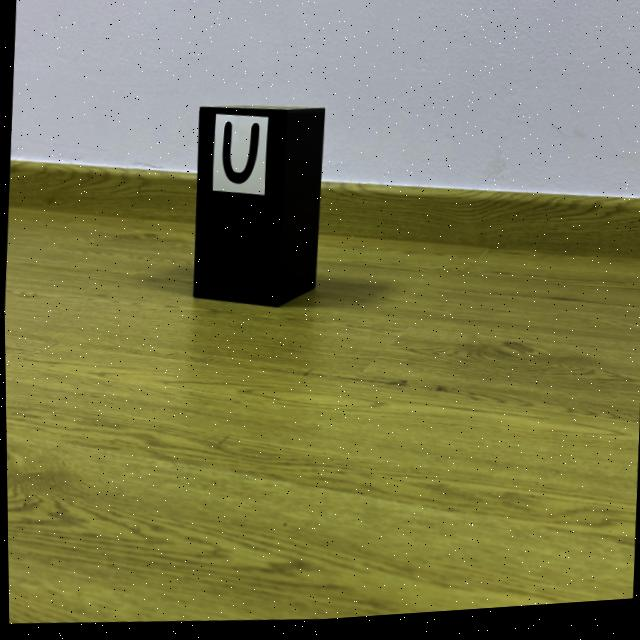U: (222, 125, 258, 186)
